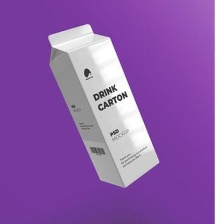carton: (44, 20, 164, 189)
